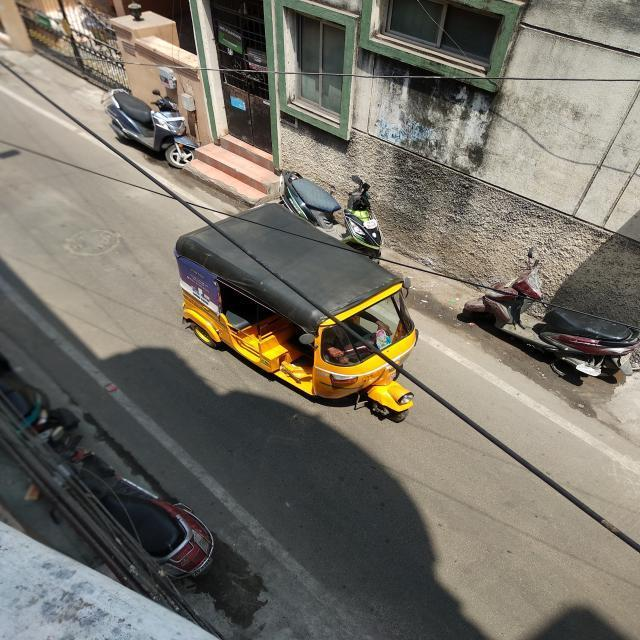auto_front: (174, 193, 426, 437), (458, 240, 640, 398)
two_wheeler_front: (275, 155, 389, 265), (95, 75, 198, 172)
